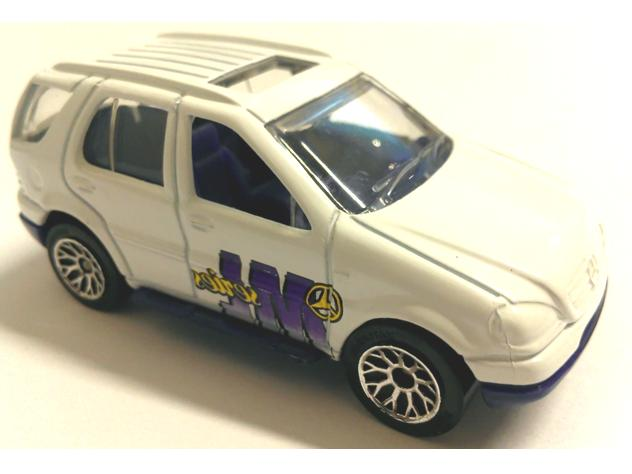toy-car: (7, 31, 612, 440)
